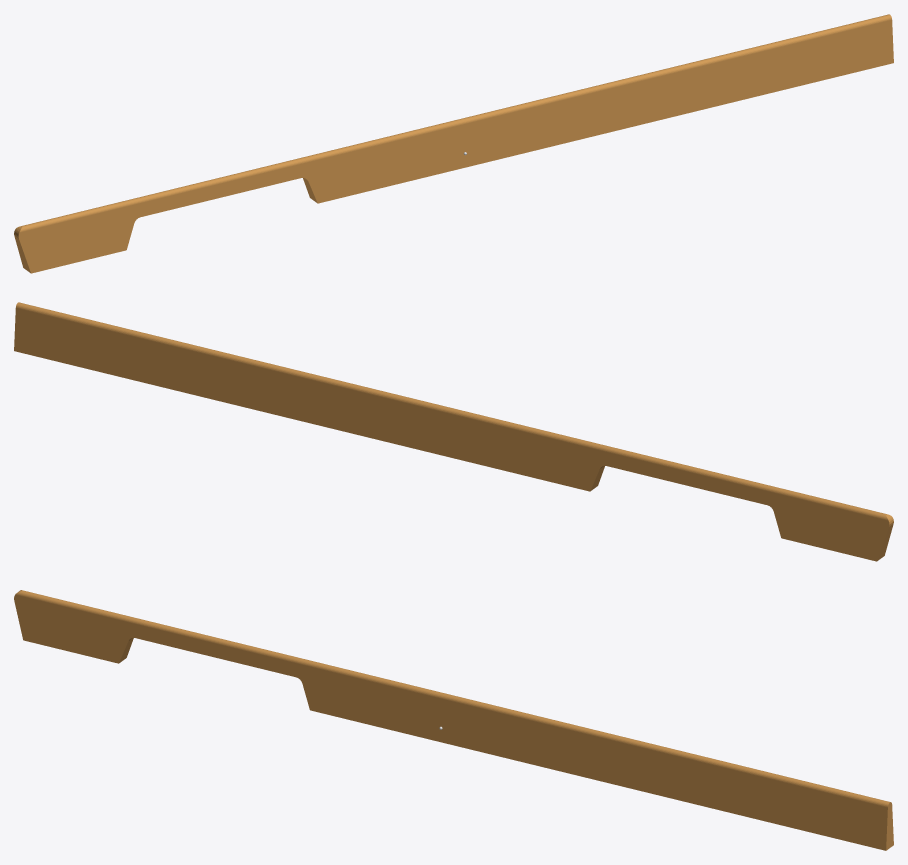
Rendered from 183 pvd gold.glb.
The picture shows the model from 3 angles, top to bottom: view 1: azimuth 30°, elevation 25°; view 2: azimuth 150°, elevation 25°; view 3: azimuth 330°, elevation 25°; orthographic projection.
Visible parts, largest first — view 1: CABINET_HANDLE_183; view 2: CABINET_HANDLE_183; view 3: CABINET_HANDLE_183.
Boxes of the visible parts, x1,y1,x2,y2 form: CABINET_HANDLE_183: [14, 14, 893, 273]; CABINET_HANDLE_183: [14, 302, 893, 561]; CABINET_HANDLE_183: [14, 590, 893, 850].
Bounding box in the file's own units: 22.4 × 1.12 × 0.7508.
